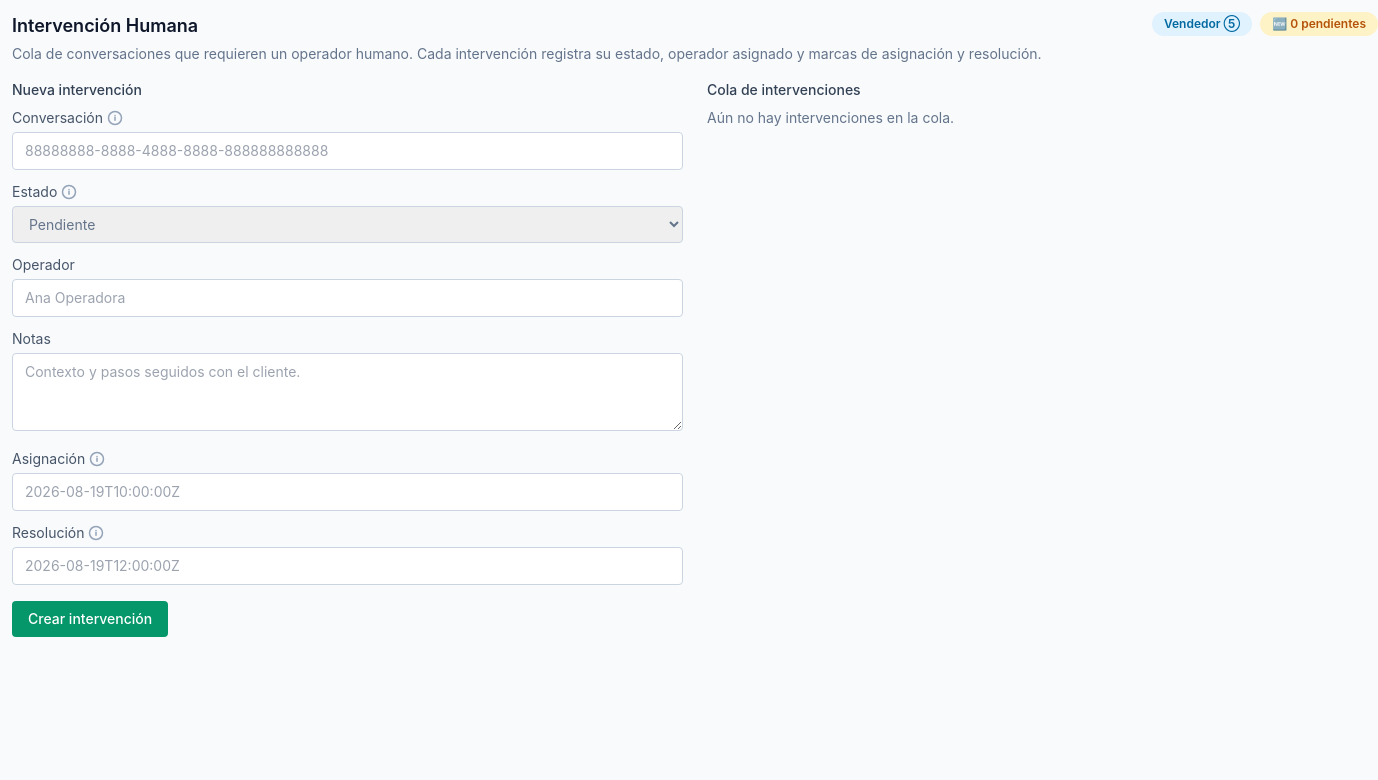
InterventionsSection › valida el identificador de la conversación obligatorio antes de crear
The image size is (1378, 780).
Check: the text "Aún no hay intervenciones en la cola." is shown, box [707,109,954,126]
Click the button "Crear intervención" at [90, 619], box [12,601,168,637]
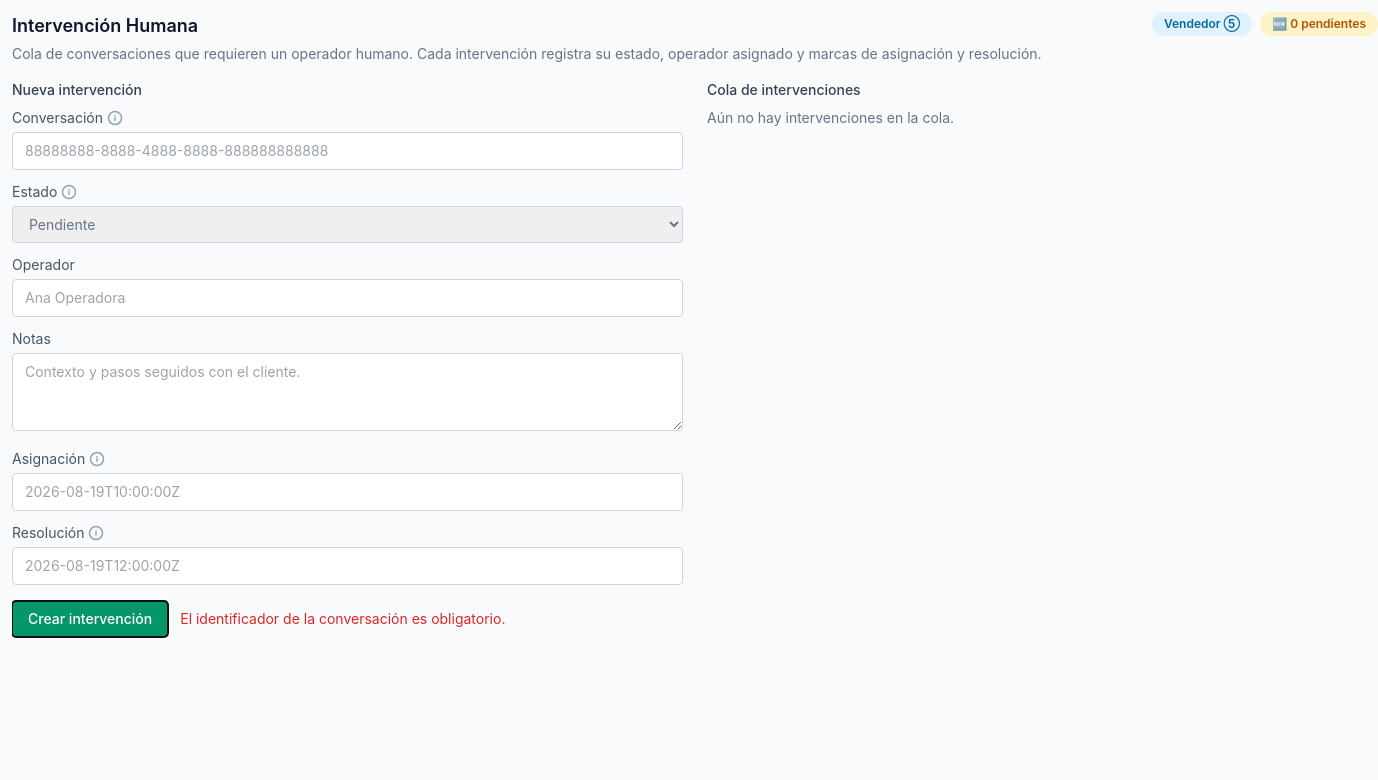
Check: the text "El identificador de la conversación es obligatorio." is shown, box [180,610,505,627]
